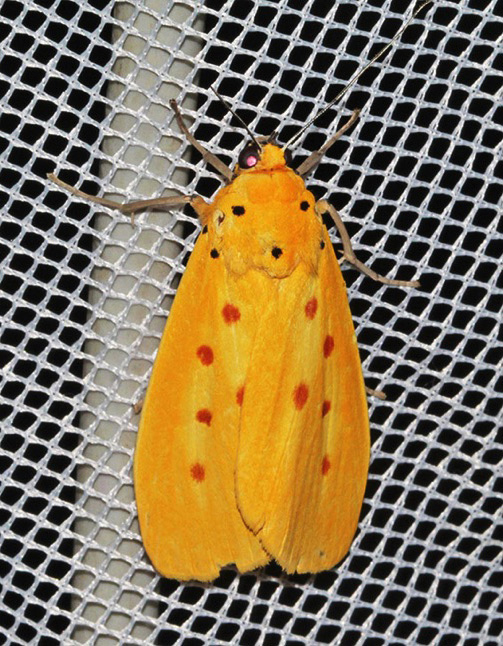Agape chloropyga: (40, 6, 430, 590)
moth: (38, 4, 428, 588)
